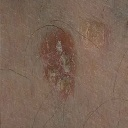Bowen: (45, 33, 76, 93)
